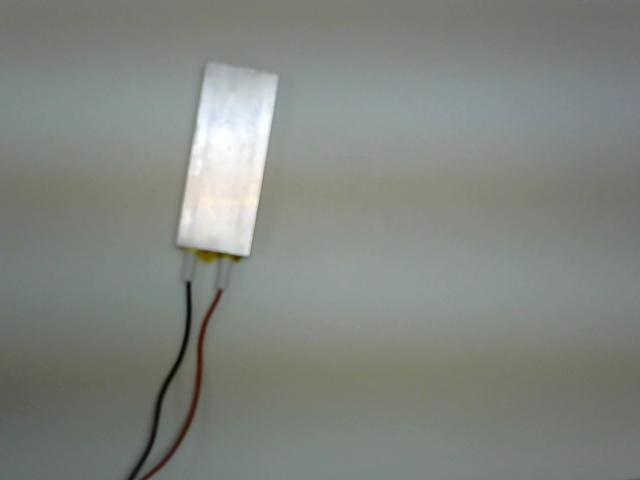heater: (161, 53, 293, 294)
